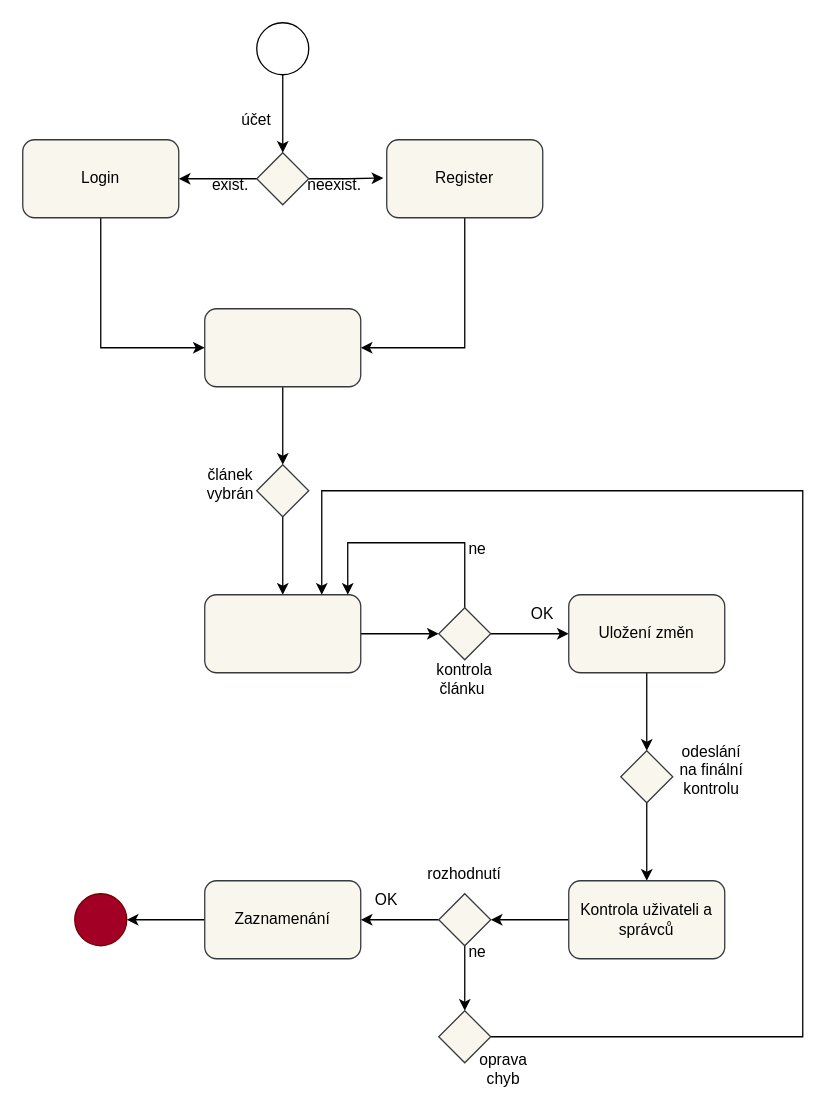
This 836x1112 diagram has some shape labels left out. The centre of each missing label's shape, as x and y in pixels:
"Oprava článku" goes at [282,633].
"Vyhledává článek" goes at [282,347].
